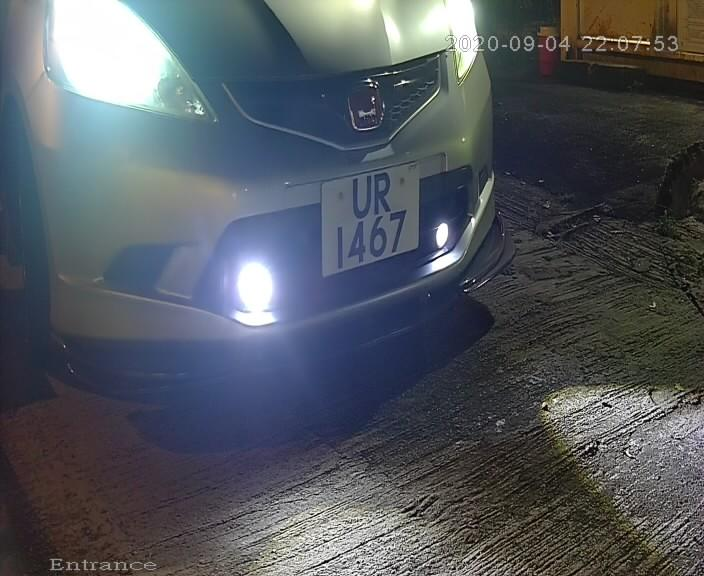License Plate: (312, 150, 428, 289)
